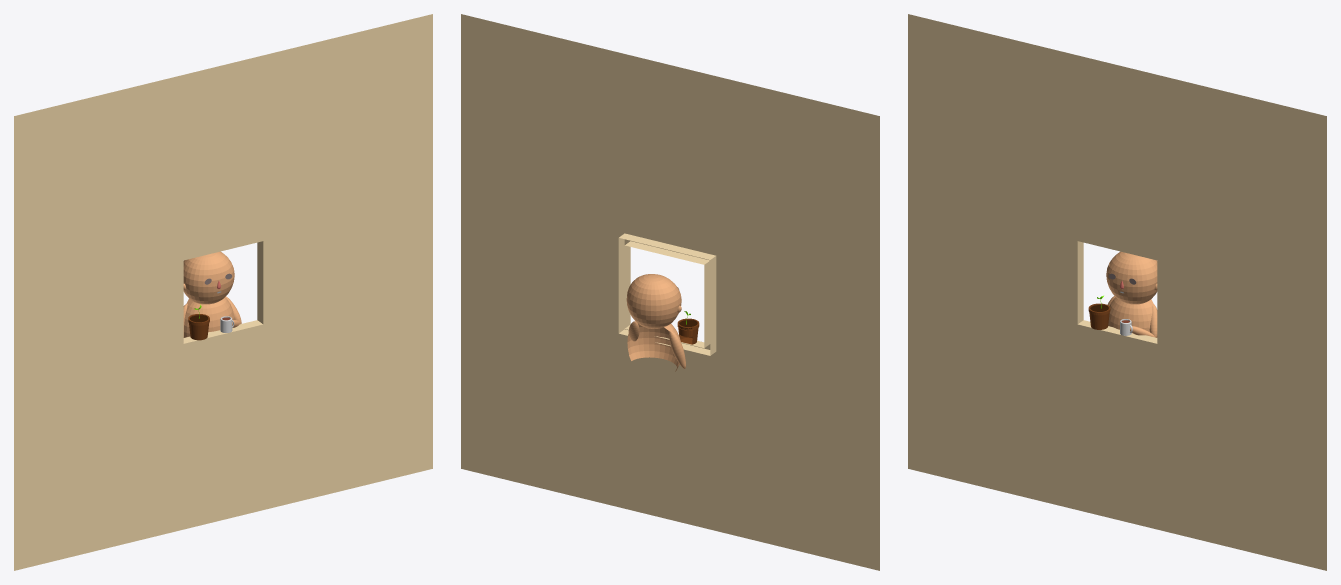
Rendered from maru_fixed.glb.
3 renders of one model, left to right at view 1: azimuth 30°, elevation 25°; view 2: azimuth 150°, elevation 25°; view 3: azimuth 330°, elevation 25°, orthographic.
Visible parts, largest first — view 1: wall, frame, head bottom, body, head top; view 2: wall, frame, head bottom, body, head top; view 3: wall, head bottom, body, frame, head top.
Boxes of the visible parts, x1=… form: wall: x1=14, y1=14, x2=432, y2=570; frame: x1=177, y1=233, x2=269, y2=351; head bottom: x1=183, y1=264, x2=234, y2=304; body: x1=184, y1=297, x2=234, y2=337; head top: x1=183, y1=251, x2=231, y2=275; wall: x1=461, y1=14, x2=879, y2=570; frame: x1=618, y1=233, x2=716, y2=355; head bottom: x1=626, y1=289, x2=681, y2=328; body: x1=627, y1=323, x2=680, y2=371; head top: x1=628, y1=274, x2=678, y2=300; wall: x1=908, y1=14, x2=1326, y2=570; head bottom: x1=1106, y1=262, x2=1157, y2=304; body: x1=1108, y1=297, x2=1157, y2=337; frame: x1=1076, y1=241, x2=1163, y2=346; head top: x1=1109, y1=251, x2=1157, y2=275.
Bounding box in the file's own units: 32.91 × 34.16 × 4.35.
